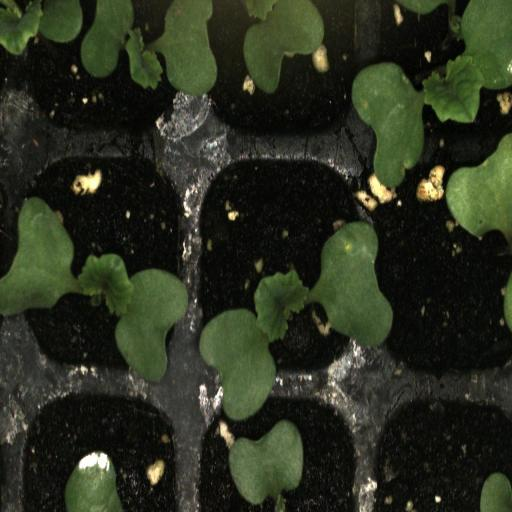seedling: (11, 153, 194, 383), (192, 152, 366, 388)
